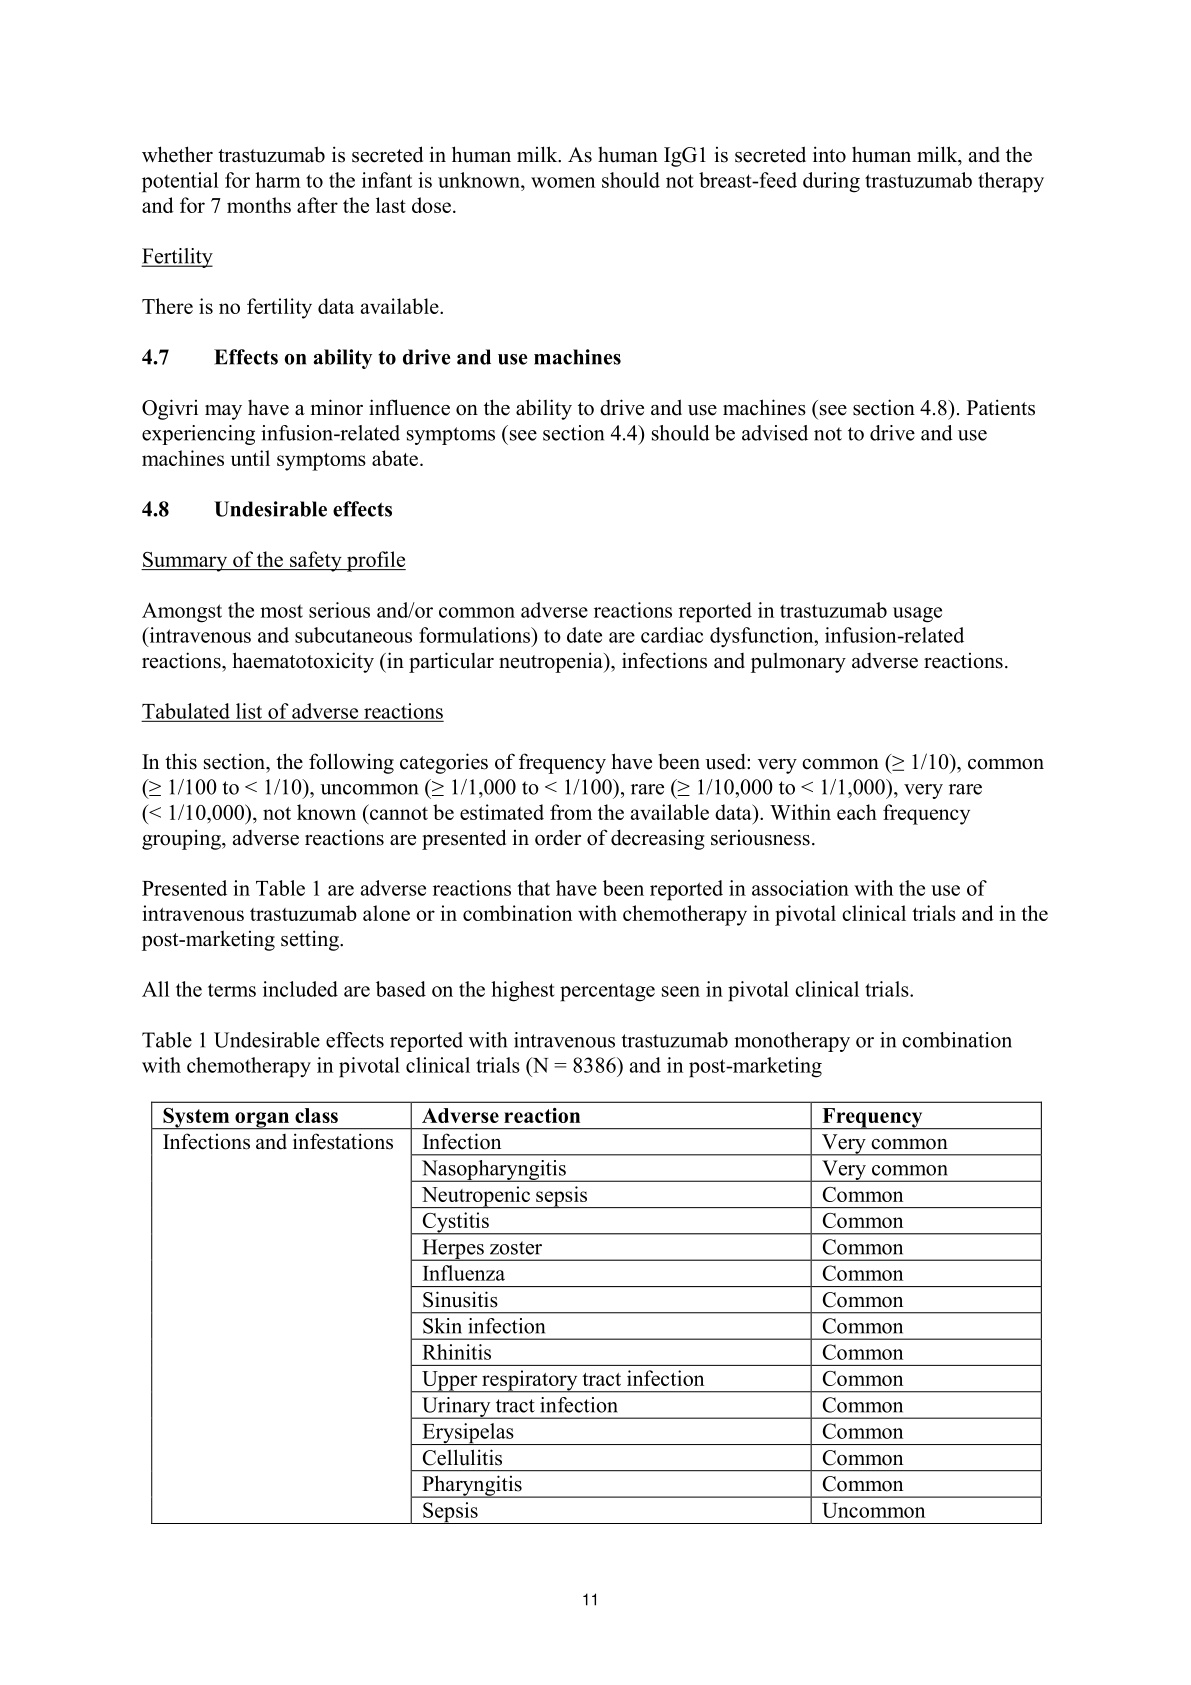merged_cells: (150, 1101, 1041, 1525)
